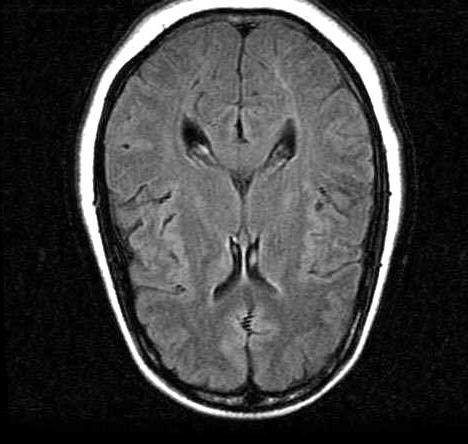Normal_Brain: (65, 19, 420, 444)
